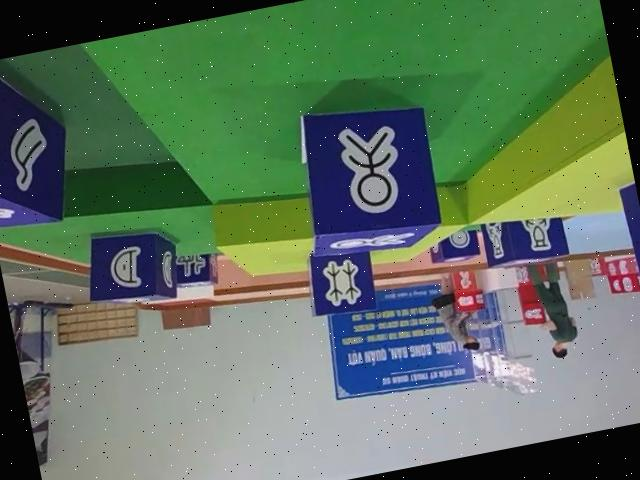R2 Real Blue: (286, 91, 446, 266), (0, 49, 79, 237), (77, 217, 185, 312), (297, 239, 376, 319), (478, 206, 568, 270), (613, 157, 640, 283), (170, 251, 222, 292), (426, 226, 480, 264)
